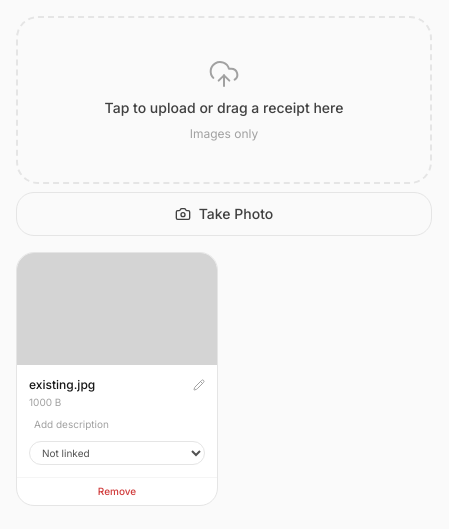
Test: ReceiptsPage › renames a receipt from the card via the repository
Check: the element with test id "receipt-card" is shown, box left=16, top=252, right=218, bottom=506
Click the button with test id "receipt-rename-button" at x=199, y=385, box left=193, top=379, right=205, bottom=391
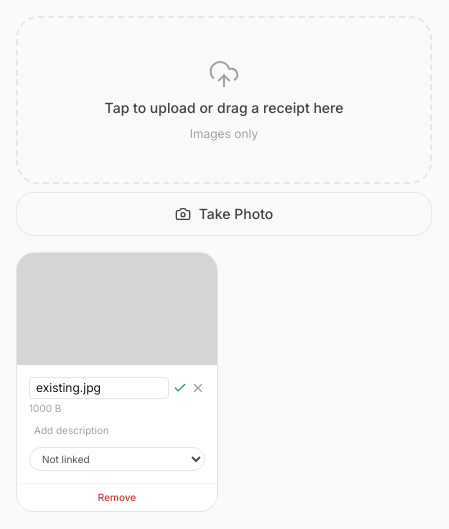
Replace the text in the field with test id "receipt-name-input" with "renamed.jpg" at x=99, y=388, box left=29, top=377, right=169, bottom=399
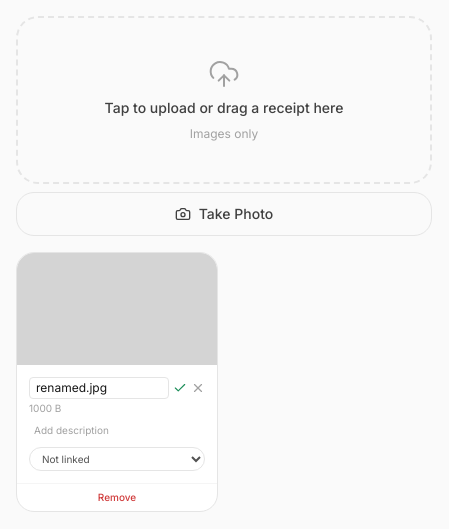
Click the button with test id "receipt-name-save" at x=180, y=388, box left=173, top=381, right=187, bottom=395
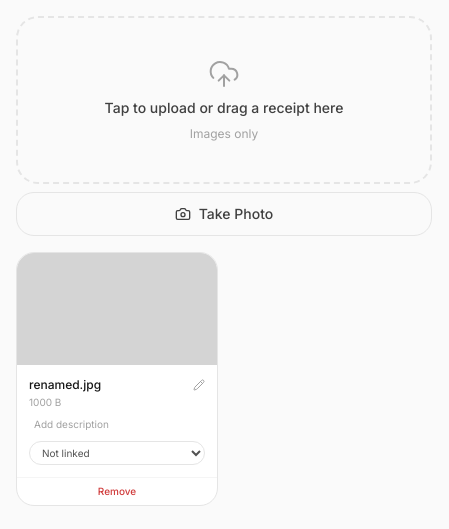
Check: the element with test id "receipt-card" shows "renamed.jpg", box left=29, top=377, right=101, bottom=392
